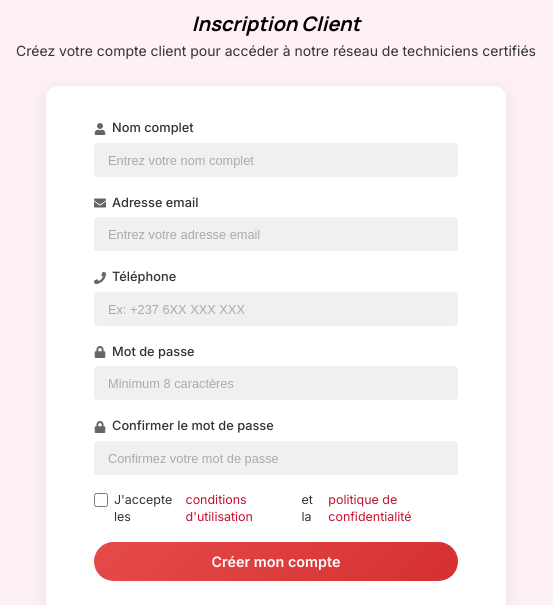
Scenario: Inscription Client › affiche une erreur générique sans réponse serveur et ne redirige pas
Type "Alice" into the field with placeholder "Entrez votre nom complet".
click(276, 160); type("Alice")  # box [94, 143, 458, 177]
Type "nouveau@test.local" into the field with placeholder "Entrez votre adresse email".
click(276, 234); type("nouveau@test.local")  # box [94, 217, 458, 251]
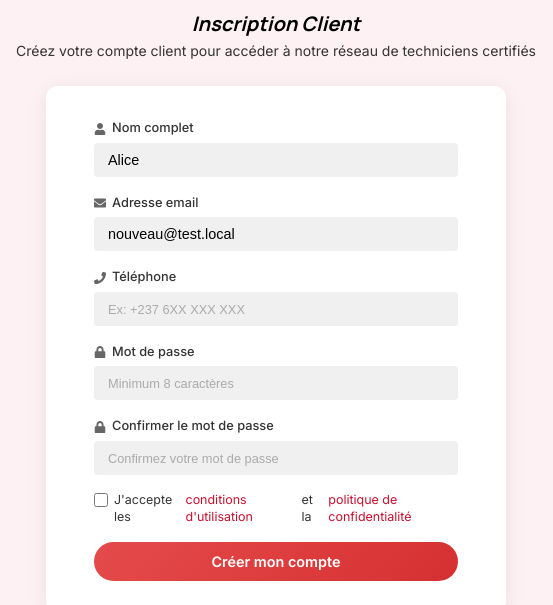
Type "+237600000000" into the field with placeholder "Ex: +237 6XX XXX XXX".
click(276, 309); type("+237600000000")  # box [94, 292, 458, 326]
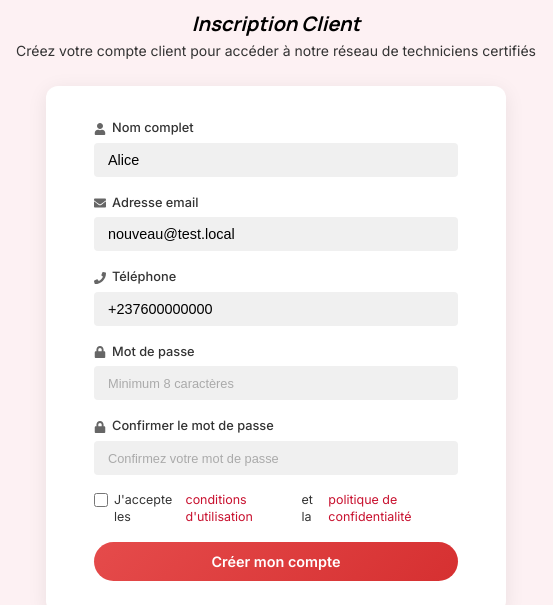
Type "Passw0rd!123" into the password field with placeholder "Minimum 8 caractères".
click(276, 383); type("Passw0rd!123")  # box [94, 366, 458, 400]
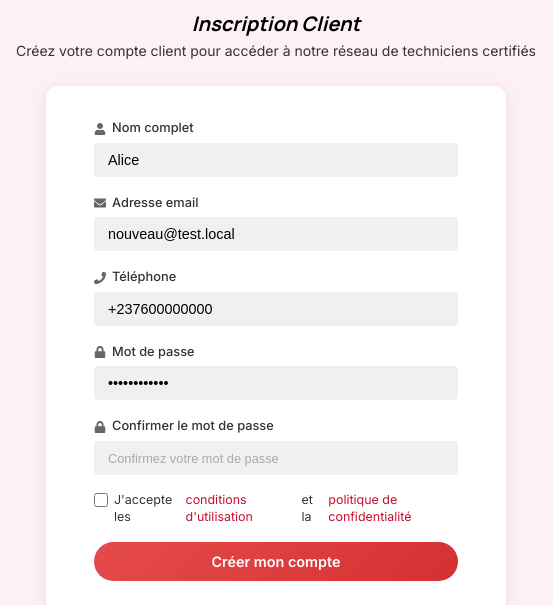
Type "Passw0rd!123" into the password field with placeholder "Confirmez votre mot de passe".
click(276, 458); type("Passw0rd!123")  # box [94, 441, 458, 475]
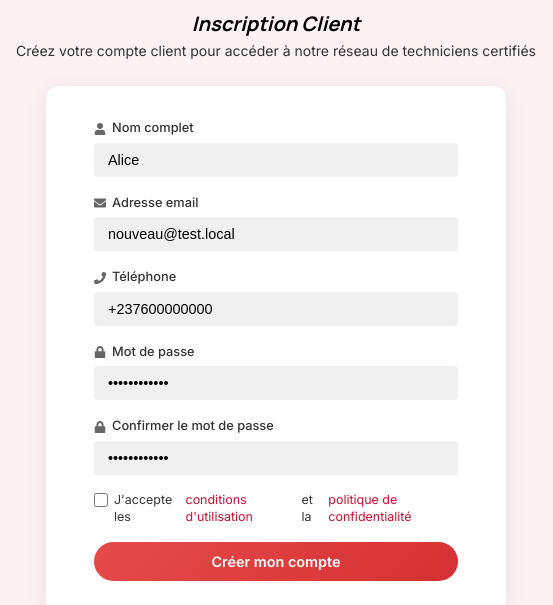
Click the checkbox.
click(101, 500)  # box [94, 493, 108, 507]
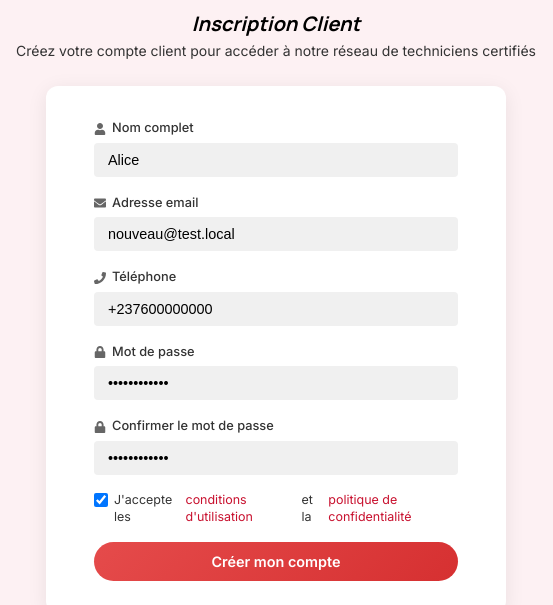
Submit the form, box [94, 118, 458, 581]
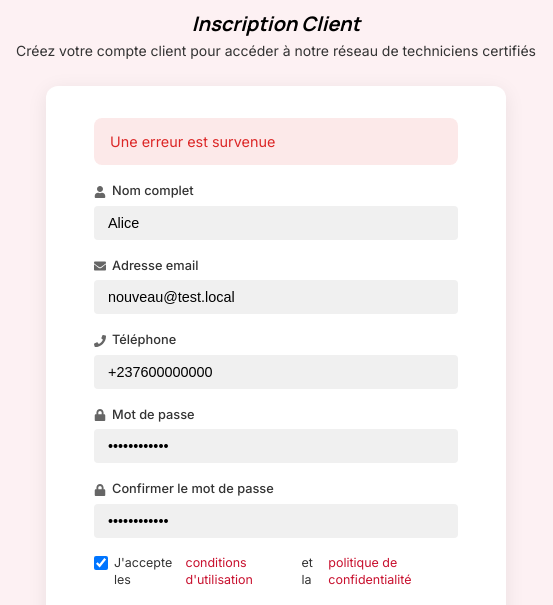
expect the text "Une erreur est survenue" is shown: met, box [94, 118, 458, 165]
